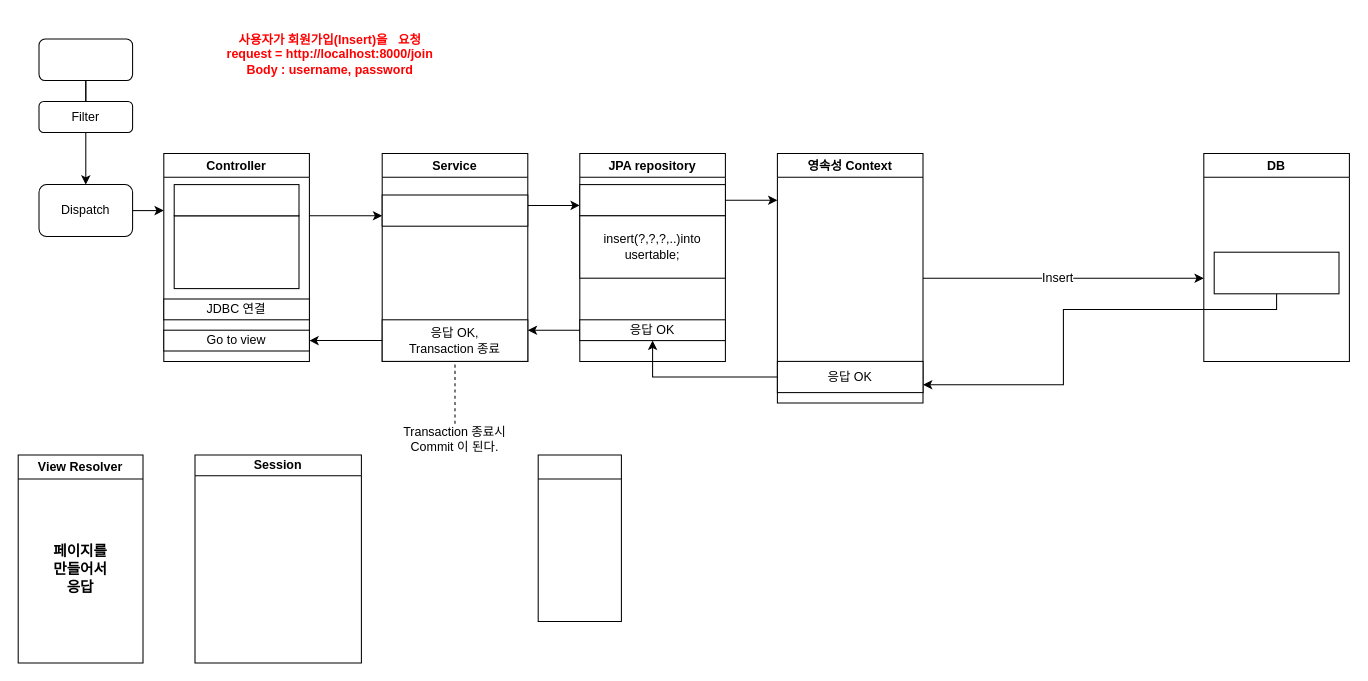
Some shapes in this 1368 by 681 pixel diagram are drawn without their labels. Each missing label, with the centre of its shape:
"Body data" goes at point 236,200.
"Insert 해줘" goes at point 652,200.
"Interceptor" goes at point 579,537.
"Tomcat Start" goes at point 85,59.
"Transaction 실행" goes at point 454,210.
"User 정보" goes at point 1276,272.
"{user name, password, email ...}" goes at point 236,252.
